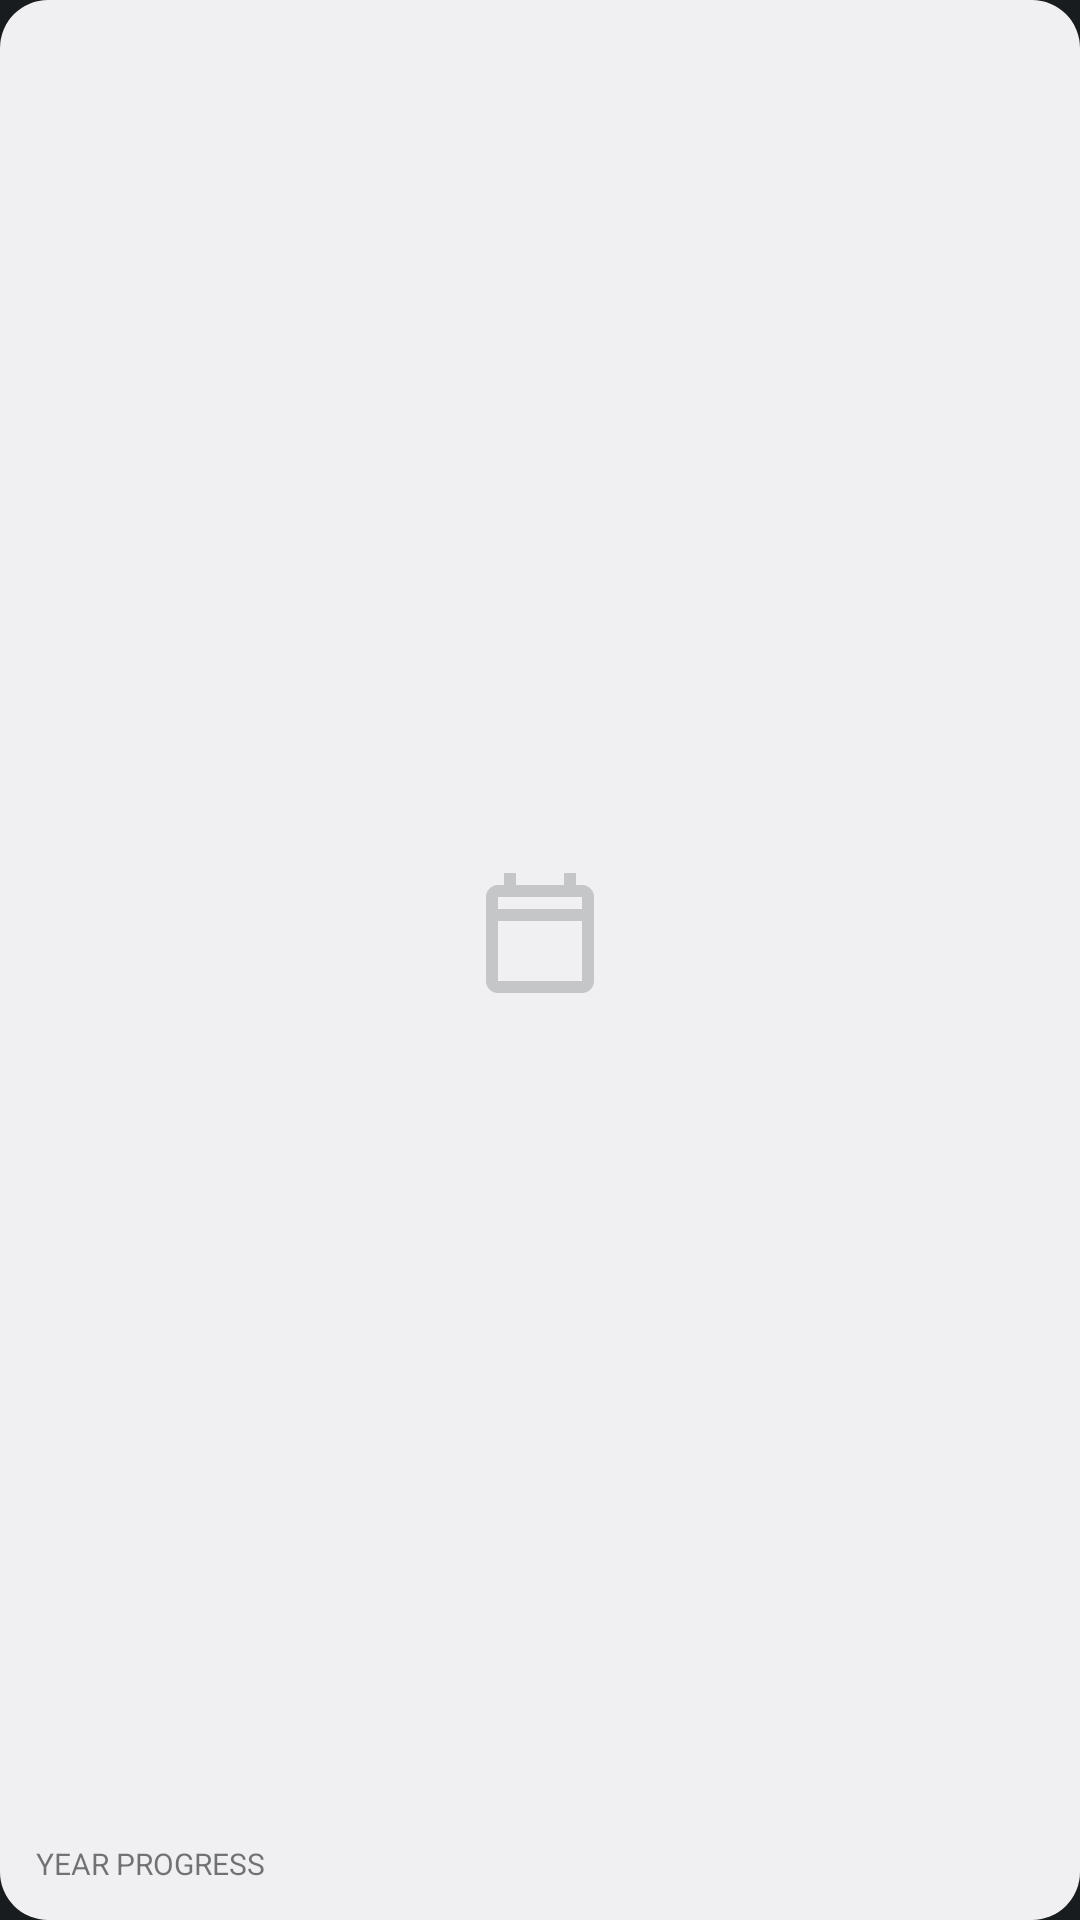

Screen size 1080×1920. Icon name, then its box in pixels as {"left": x1, "top": y1, "right": x2, "bottom": y2}:
calendar event: {"left": 486, "top": 873, "right": 594, "bottom": 993}
